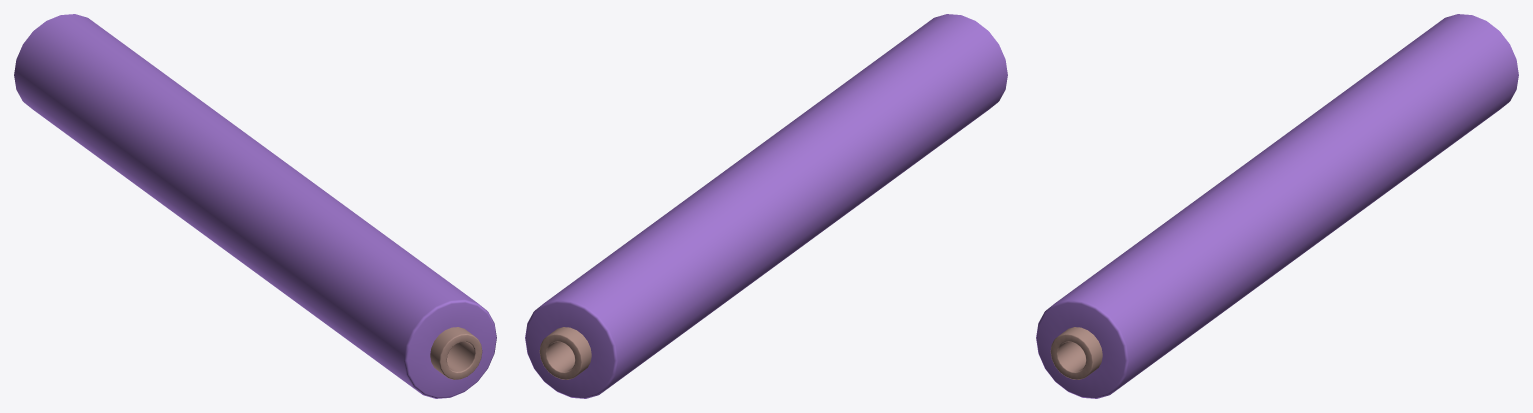
The model's file is Public_19_Fabric_Roll_6.glb.
The picture shows the model from 3 angles, left to right: view 1: azimuth 30°, elevation 25°; view 2: azimuth 150°, elevation 25°; view 3: azimuth 330°, elevation 25°; orthographic projection.
Visible parts, largest first — view 1: Public_19_Fabric_Roll_6; view 2: Public_19_Fabric_Roll_6; view 3: Public_19_Fabric_Roll_6.
Part boxes in pixels (bbox=[...]): Public_19_Fabric_Roll_6: bbox=[14, 14, 496, 398]; Public_19_Fabric_Roll_6: bbox=[525, 14, 1007, 398]; Public_19_Fabric_Roll_6: bbox=[1036, 14, 1518, 398].
Size of the model in its own units: 0.3971 by 0.3971 by 3.04.
1 material, 1 textured.
